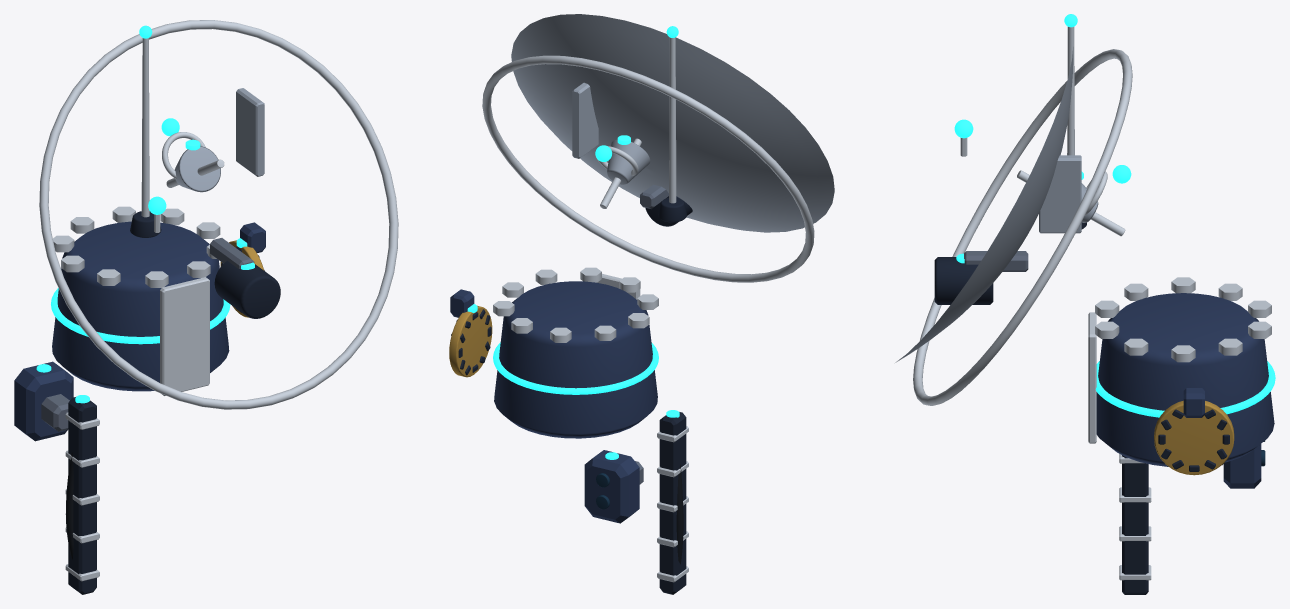
Rendered from tower_skywatch_range_s10.glb.
The picture shows the model from 3 angles, left to right: view 1: azimuth 30°, elevation 25°; view 2: azimuth 150°, elevation 25°; view 3: azimuth 270°, elevation 25°; orthographic projection. The views are drawn at different scales.
Visible parts, largest first — view 1: skywatch_mast_riser, skywatch_wide_rim, skywatch_riser_ladder, skywatch_cable_ladder, skywatch_riser_bolts, skywatch_sensor_cluster, skywatch_dish_counterweight, skywatch_iff_blade, skywatch_feed_horn, skywatch_whip, skywatch_riser_band, skywatch_sensor_mount (+4 smaller); view 2: skywatch_wide_dish, skywatch_mast_riser, skywatch_wide_rim, skywatch_cable_ladder, skywatch_sensor_cluster, skywatch_riser_bolts, skywatch_encoder_disc, skywatch_iff_blade, skywatch_riser_band, skywatch_whip, skywatch_feed_horn, skywatch_whip_base (+2 smaller); view 3: skywatch_mast_riser, skywatch_wide_rim, skywatch_wide_dish, skywatch_encoder_disc, skywatch_riser_bolts, skywatch_cable_ladder, skywatch_iff_blade, skywatch_dish_counterweight, skywatch_sensor_cluster, skywatch_riser_band, skywatch_riser_ladder, skywatch_whip (+2 smaller).
Part boxes in pixels (box(x1,y1,x2,y2)): skywatch_mast_riser: box(52, 221, 229, 391); skywatch_wide_rim: box(39, 20, 398, 409); skywatch_riser_ladder: box(160, 277, 209, 395); skywatch_cable_ladder: box(68, 397, 96, 594); skywatch_riser_bolts: box(53, 206, 220, 287); skywatch_sensor_cluster: box(14, 361, 73, 441); skywatch_dish_counterweight: box(214, 261, 280, 318); skywatch_iff_blade: box(236, 88, 264, 176); skywatch_feed_horn: box(174, 146, 220, 192); skywatch_whip: box(141, 38, 149, 217); skywatch_riser_band: box(51, 288, 230, 344); skywatch_sensor_mount: box(41, 394, 69, 431); skywatch_wide_dish: box(511, 14, 834, 232); skywatch_mast_riser: box(494, 281, 657, 438); skywatch_wide_rim: box(482, 55, 814, 282); skywatch_cable_ladder: box(659, 412, 686, 594); skywatch_sensor_cluster: box(584, 450, 639, 523); skywatch_riser_bolts: box(493, 267, 658, 342); skywatch_encoder_disc: box(449, 305, 492, 377); skywatch_iff_blade: box(572, 82, 598, 158); skywatch_riser_band: box(493, 342, 658, 394); skywatch_whip: box(669, 37, 676, 203); skywatch_feed_horn: box(607, 139, 650, 184); skywatch_whip_base: box(658, 197, 686, 222); skywatch_mast_riser: box(1096, 293, 1274, 466); skywatch_wide_rim: box(913, 49, 1132, 405); skywatch_wide_dish: box(895, 47, 1073, 362); skywatch_encoder_disc: box(1154, 400, 1234, 475); skywatch_riser_bolts: box(1095, 277, 1271, 362); skywatch_cable_ladder: box(1122, 455, 1148, 594); skywatch_iff_blade: box(1039, 155, 1081, 233); skywatch_dish_counterweight: box(934, 257, 993, 304); skywatch_sensor_cluster: box(1223, 444, 1261, 488); skywatch_riser_band: box(1095, 361, 1275, 417); skywatch_riser_ladder: box(1088, 312, 1096, 443); skywatch_whip: box(1067, 27, 1074, 155).
Size of the model in its own units: 1.52 by 2.45 by 1.54.
